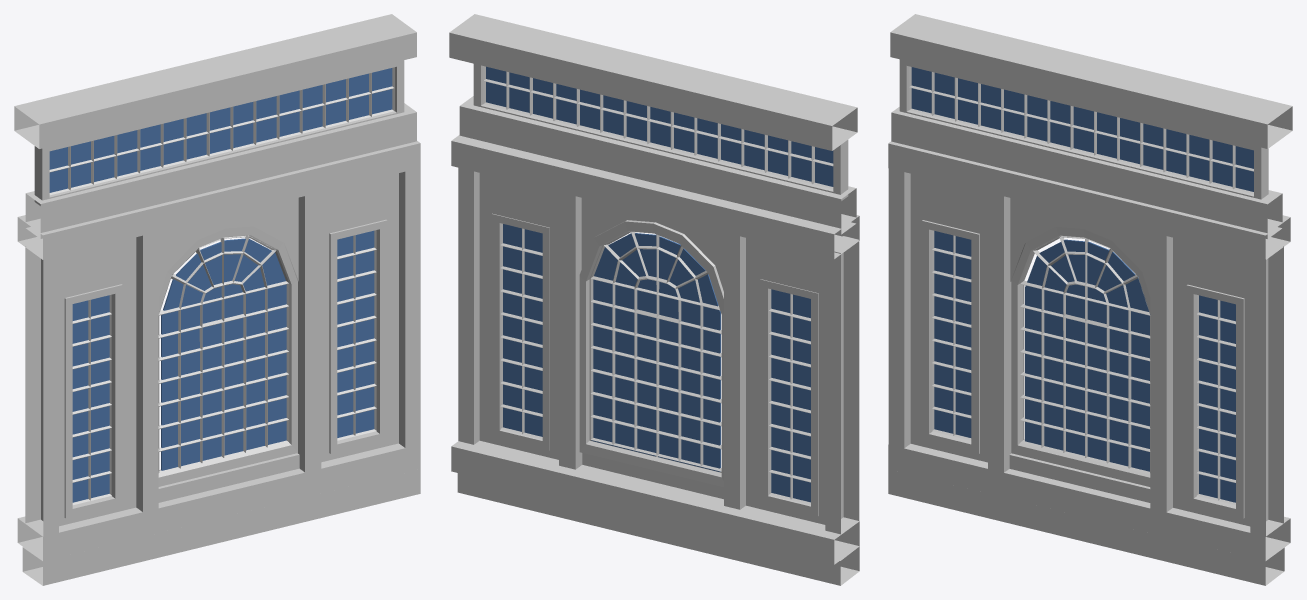
The model's file is Greenhouse Wall1.fbx.
3 renders of one model, left to right at view 1: azimuth 30°, elevation 25°; view 2: azimuth 150°, elevation 25°; view 3: azimuth 330°, elevation 25°, orthographic.
Parts seen in each view (by area): view 1: TripleWindow_Wallpiece, Glass pane, WindowFrames, GlassWindowFrame047; view 2: TripleWindow_Wallpiece, Glass pane, WindowFrames, GlassWindowFrame047; view 3: TripleWindow_Wallpiece, Glass pane, WindowFrames, GlassWindowFrame047.
Part boxes in pixels (<box>): TripleWindow_Wallpiece: <box>14,14,420,585</box>; Glass pane: <box>49,68,392,502</box>; WindowFrames: <box>34,60,404,518</box>; GlassWindowFrame047: <box>49,67,394,504</box>; TripleWindow_Wallpiece: <box>449,14,859,585</box>; Glass pane: <box>486,66,833,502</box>; WindowFrames: <box>473,64,848,516</box>; GlassWindowFrame047: <box>483,66,833,504</box>; TripleWindow_Wallpiece: <box>888,14,1292,585</box>; Glass pane: <box>911,67,1253,502</box>; WindowFrames: <box>899,59,1268,518</box>; GlassWindowFrame047: <box>909,66,1253,505</box>.
Size of the model in its own units: 298 by 345 by 37.96.
